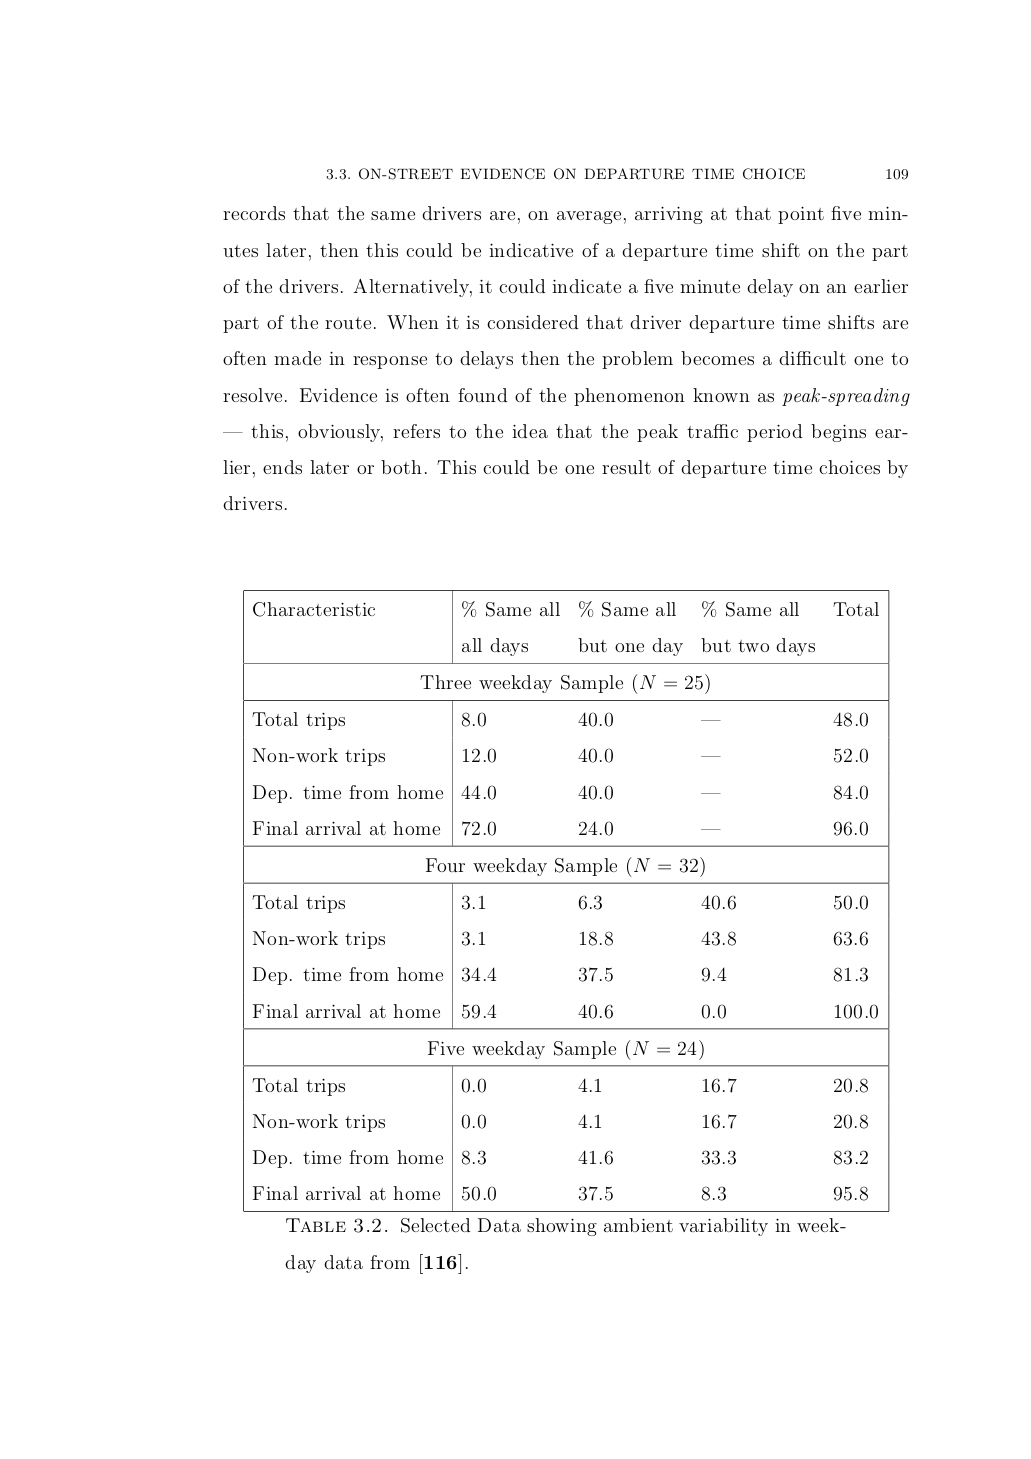Table: (243, 588, 889, 1212)
